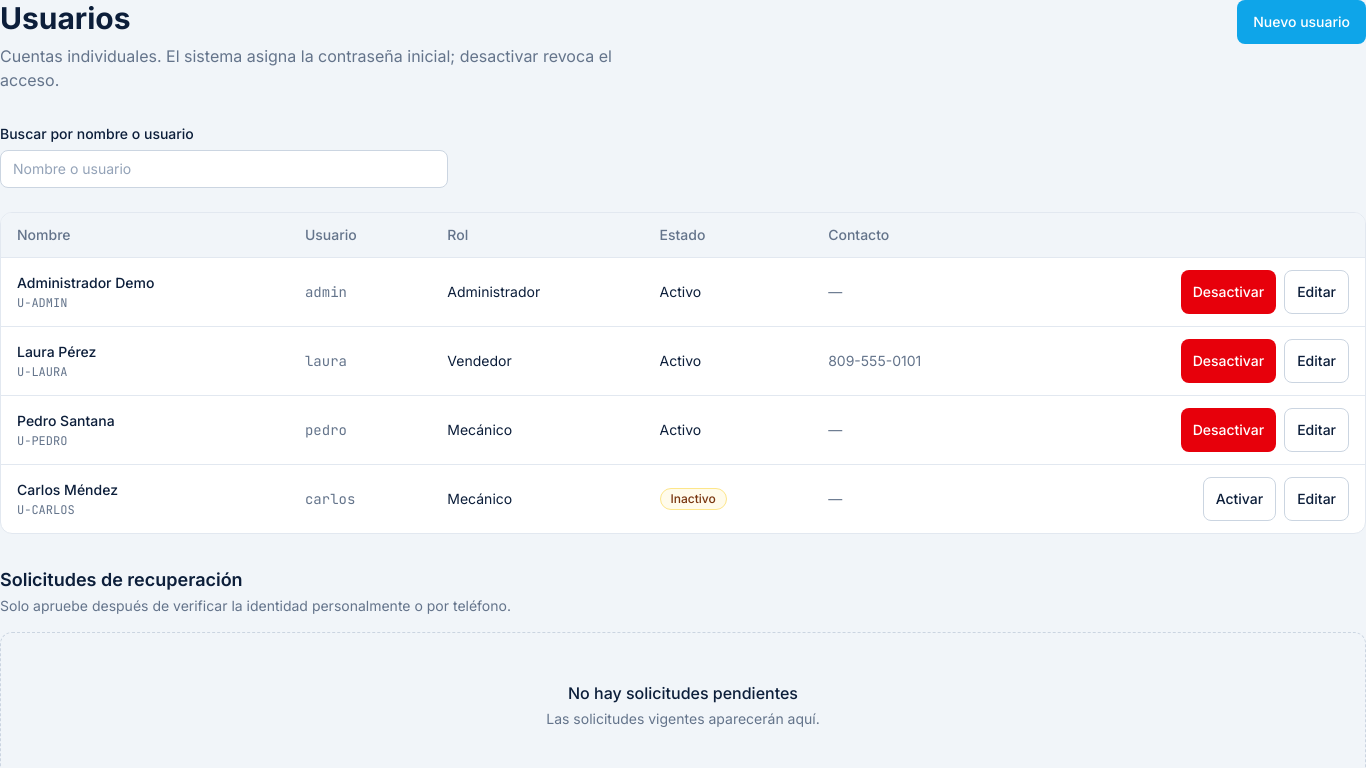
Scenario: UsersPage › asks before deactivating and keeps the account if cancelled
Expected: the text "Laura Pérez" is shown, [17, 343, 96, 360]
Click the button "Desactivar" in the row of "Laura Pérez".
click(1228, 361)  # box [1181, 339, 1276, 383]
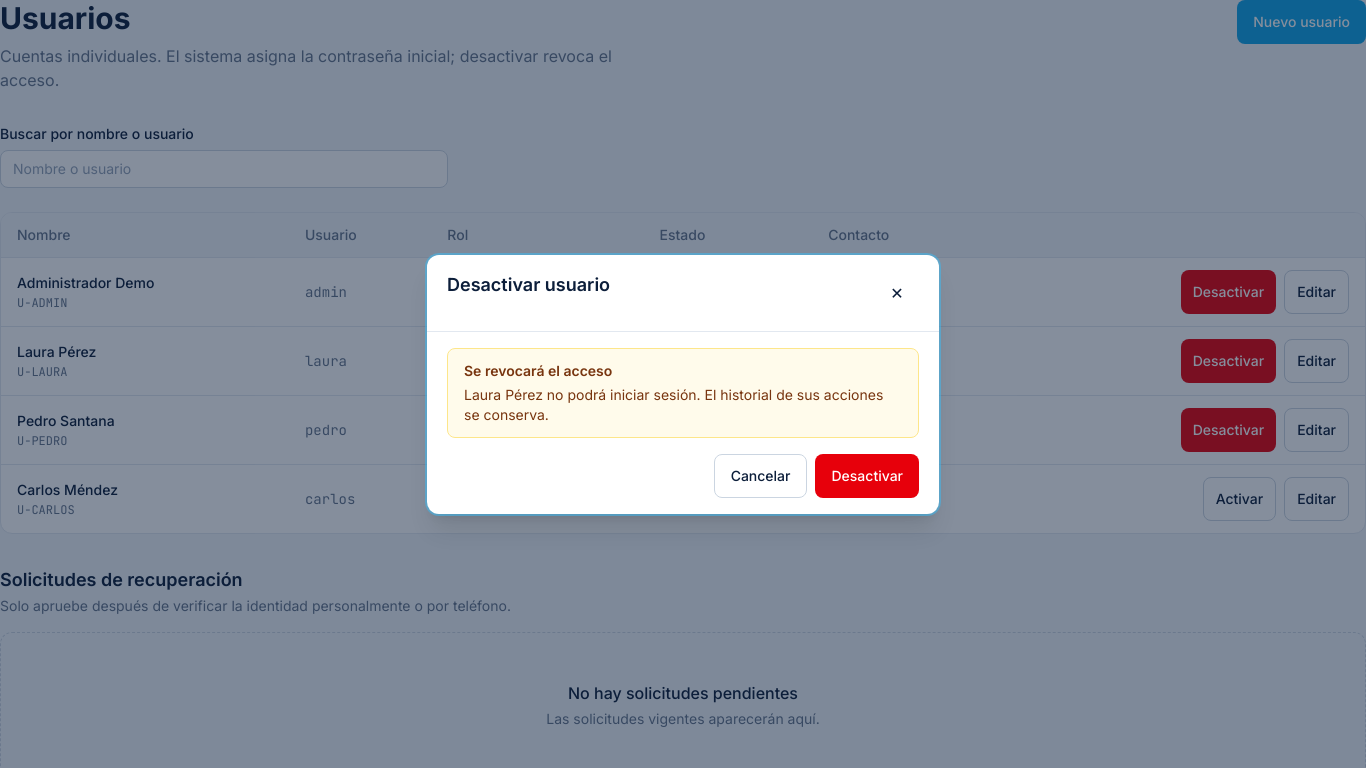
Expected: the text "no podrá iniciar sesión" is shown, [464, 386, 883, 422]
Click the button "Cancelar".
click(760, 476)  # box [714, 454, 807, 498]
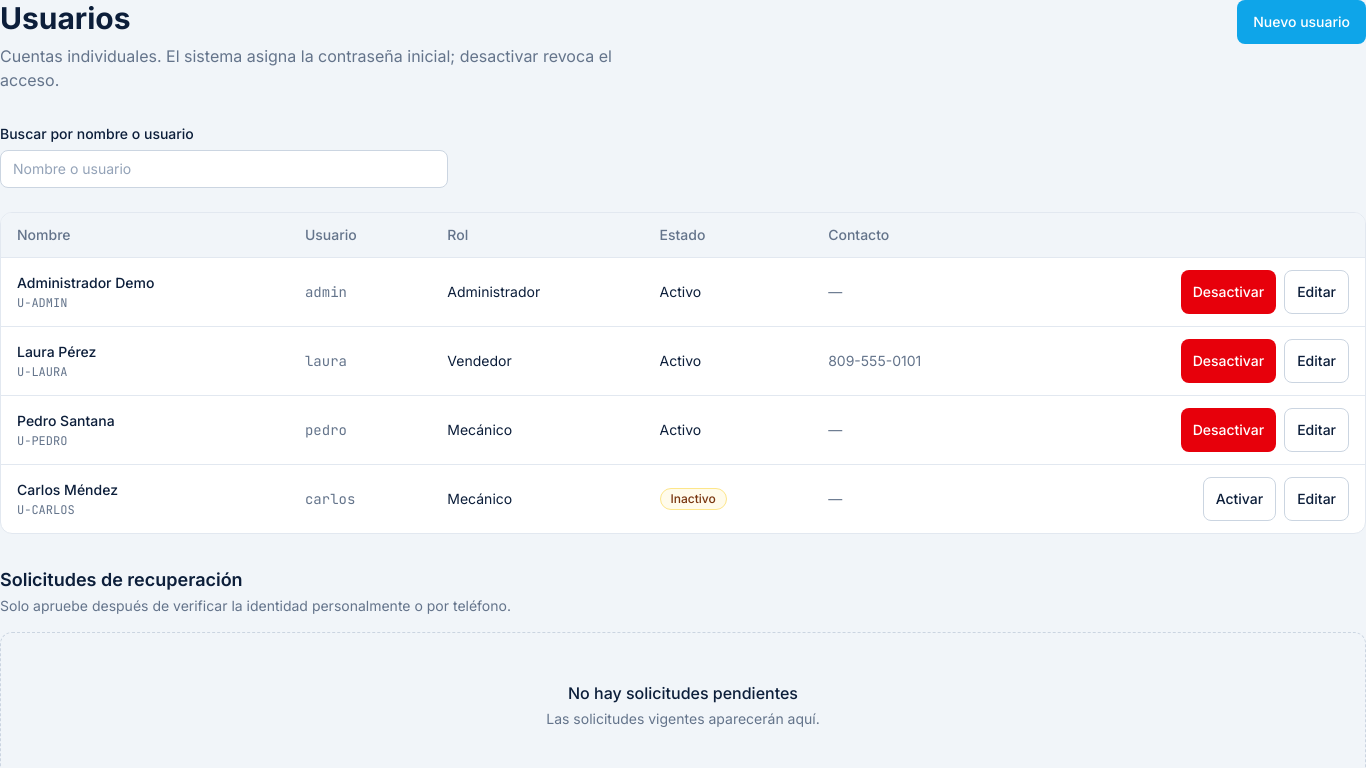
Expected: the text "Activo" in the row of "Laura Pérez" is shown, [660, 352, 701, 369]
Expected: the heading "Desactivar usuario" is gone
